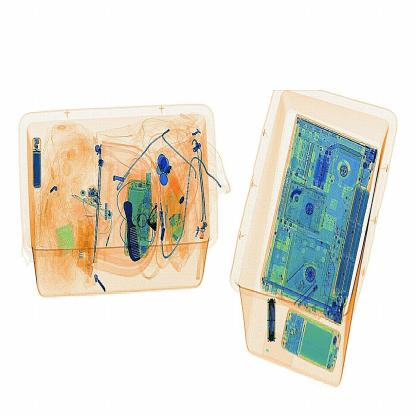scissors: (265, 298, 278, 343)
